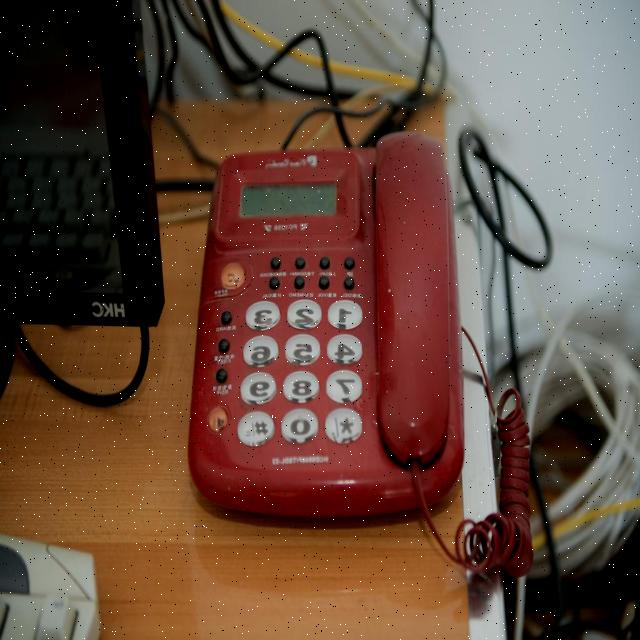Phone: (186, 131, 530, 581)
